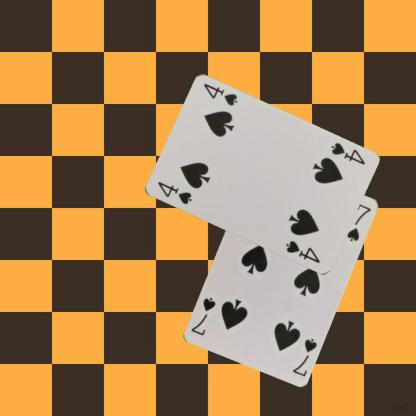4s: (155, 179, 193, 206), (328, 140, 366, 166)
7s: (289, 335, 318, 377)
